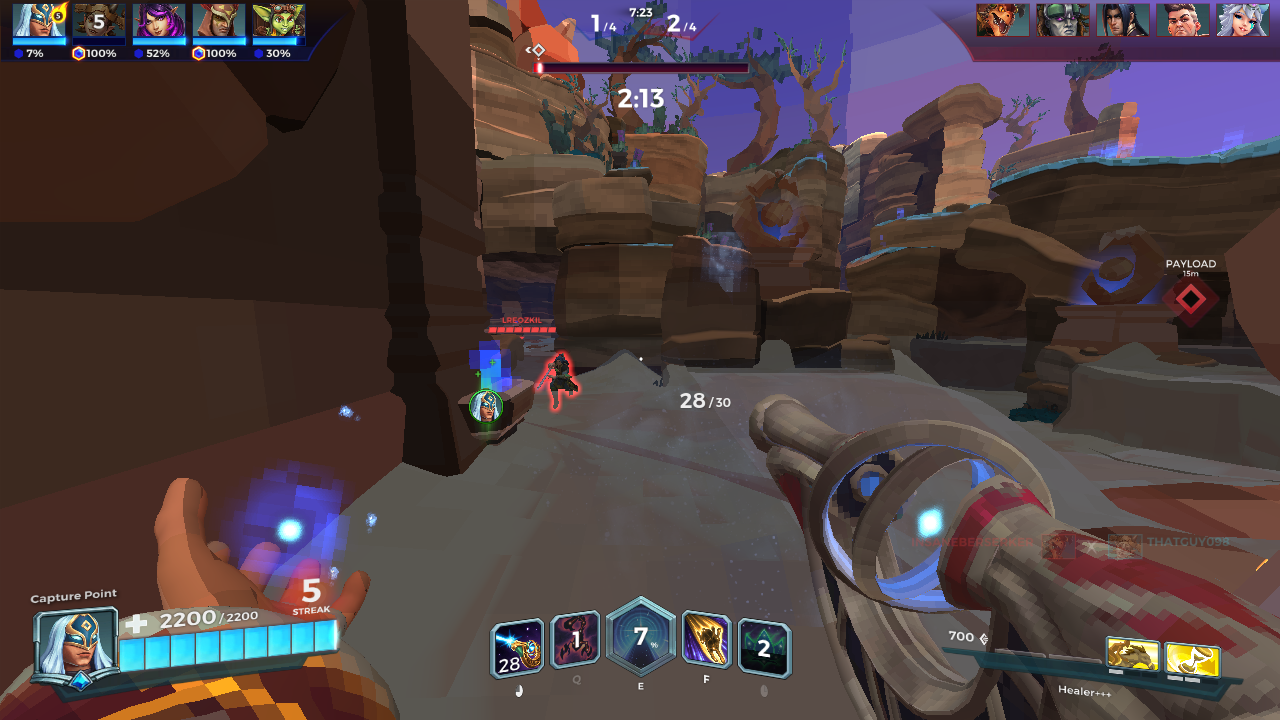model: (532, 344, 584, 413)
